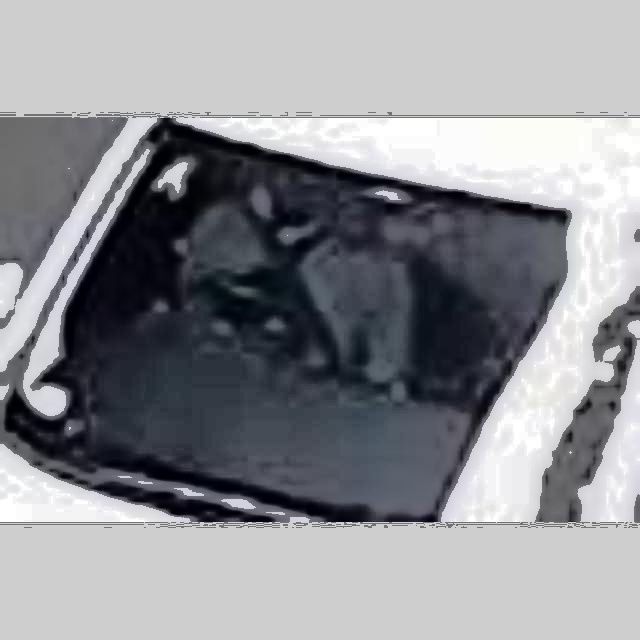pakai: (175, 184, 423, 408)
